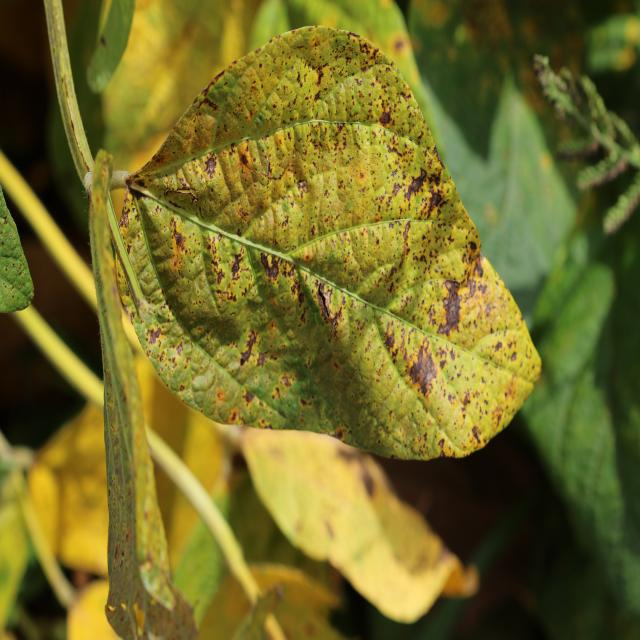Bacterial_Blight: (230, 319, 304, 408), (377, 318, 440, 395), (455, 275, 514, 344), (390, 154, 447, 219), (316, 279, 346, 332), (206, 71, 238, 107), (170, 218, 192, 265), (237, 141, 258, 175), (260, 251, 280, 282), (229, 248, 246, 281), (360, 466, 377, 499), (384, 324, 397, 354), (203, 154, 218, 179), (377, 106, 393, 126), (146, 325, 161, 346), (242, 389, 256, 406), (471, 425, 483, 444), (296, 180, 308, 196), (175, 342, 184, 356)
Soybean: (120, 26, 541, 460)
